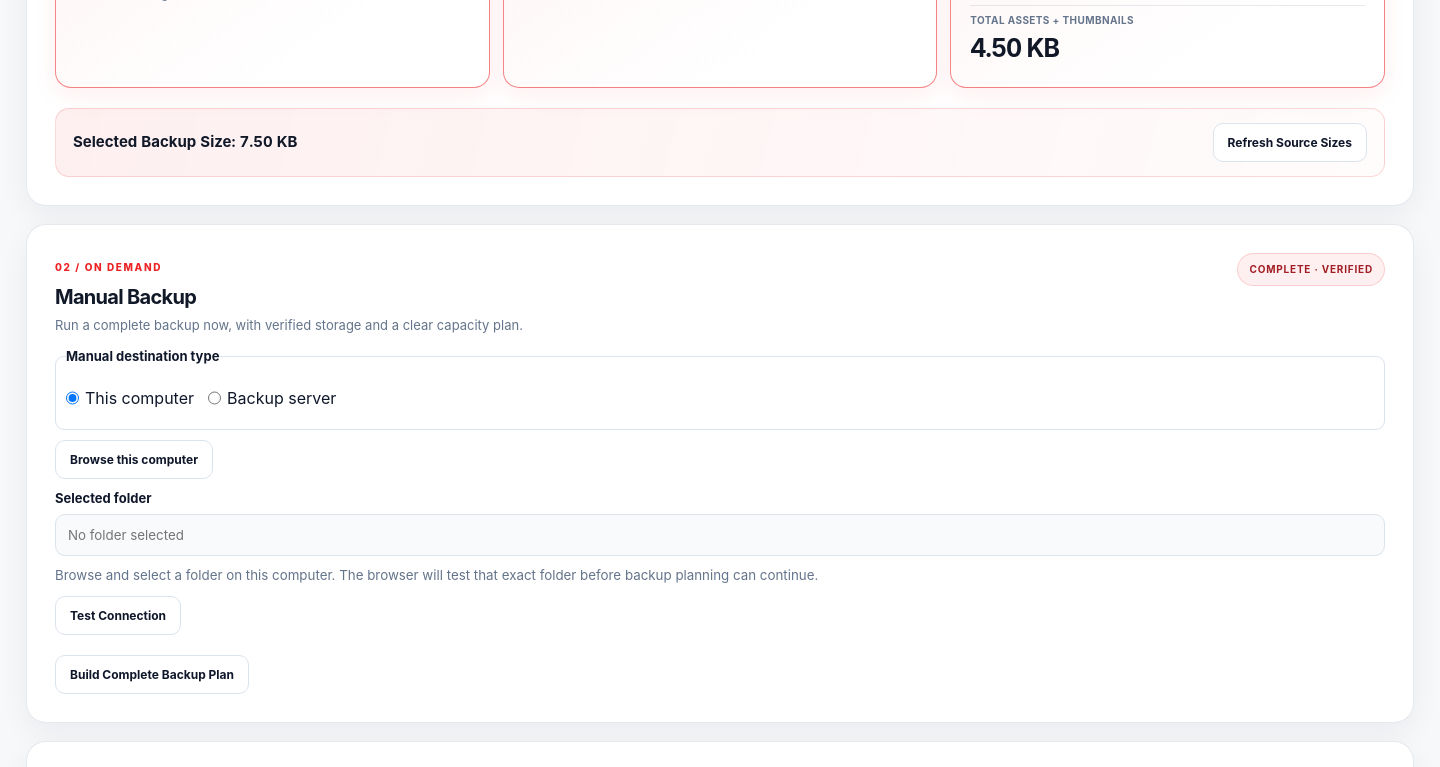
Test: AdminBackupPage › server manual destination is tested, and changing it invalidates its test and plan
The image size is (1440, 767).
(page scrolled)
Click the radio button labelled "Backup server" at (214, 398), box [208,377,221,419]
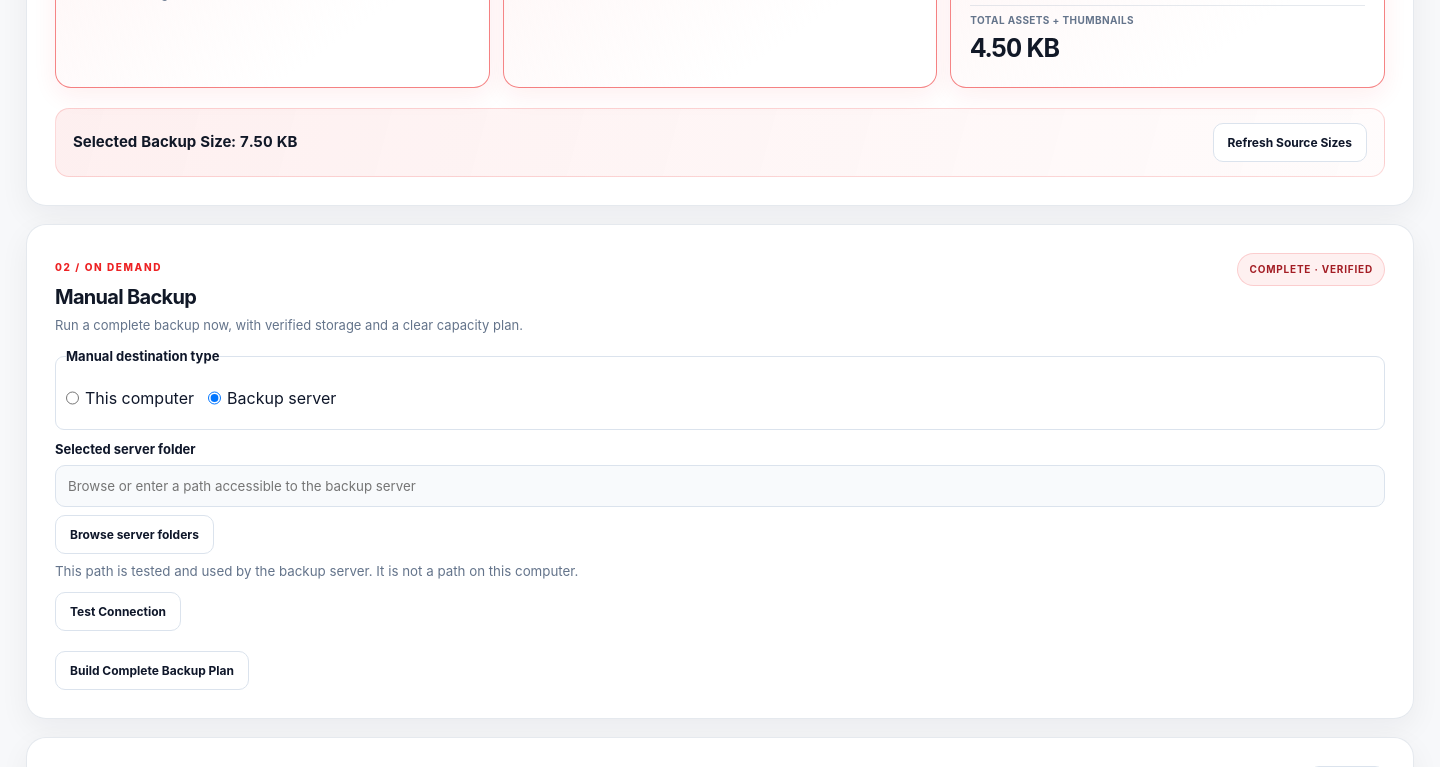
Type "D:\\FirstBackup" into the field labelled "Selected server folder" at (720, 486), box [55,465,1385,507]
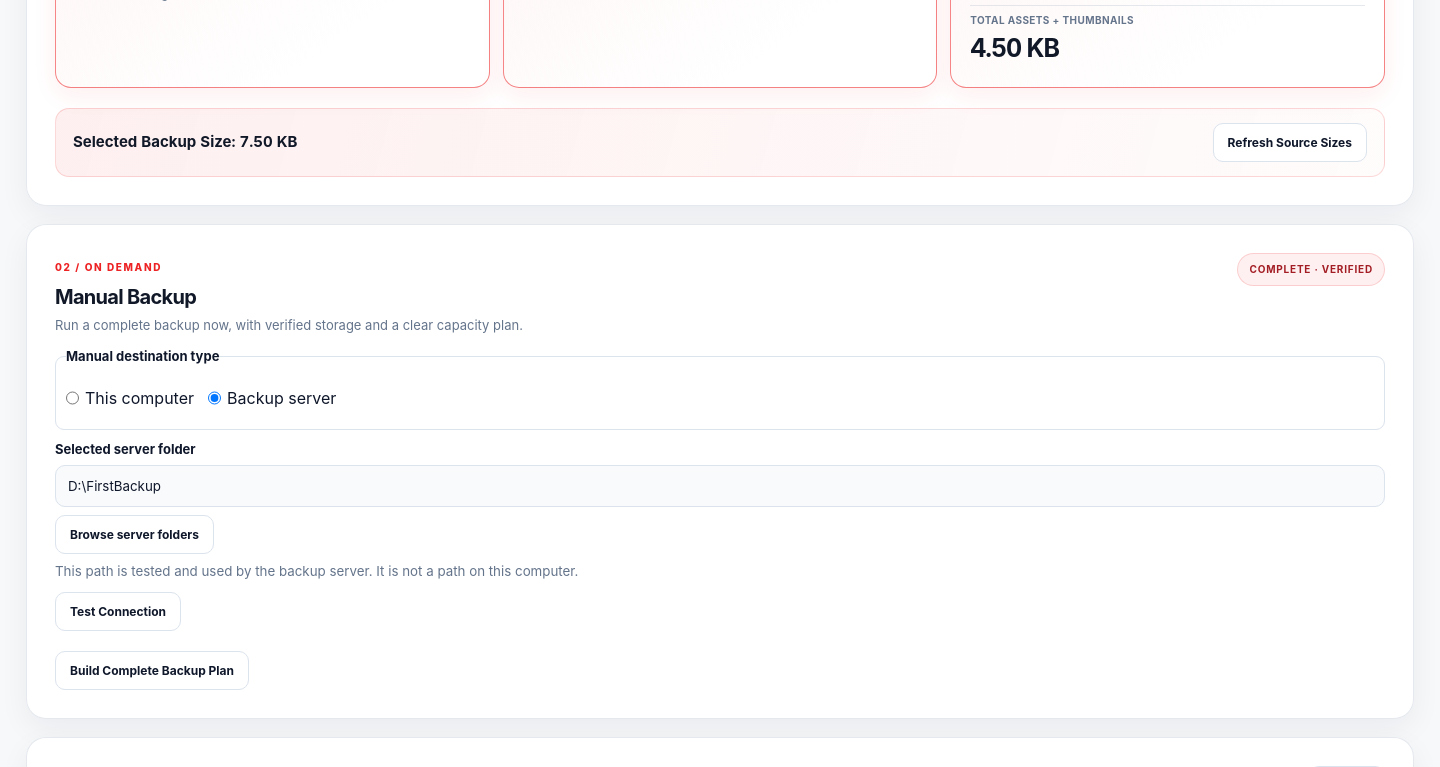
Expected: the button "Build Complete Backup Plan" is disabled, [55,651,249,690]
Click the button "Test Connection" at (118, 612), box [55,592,181,631]
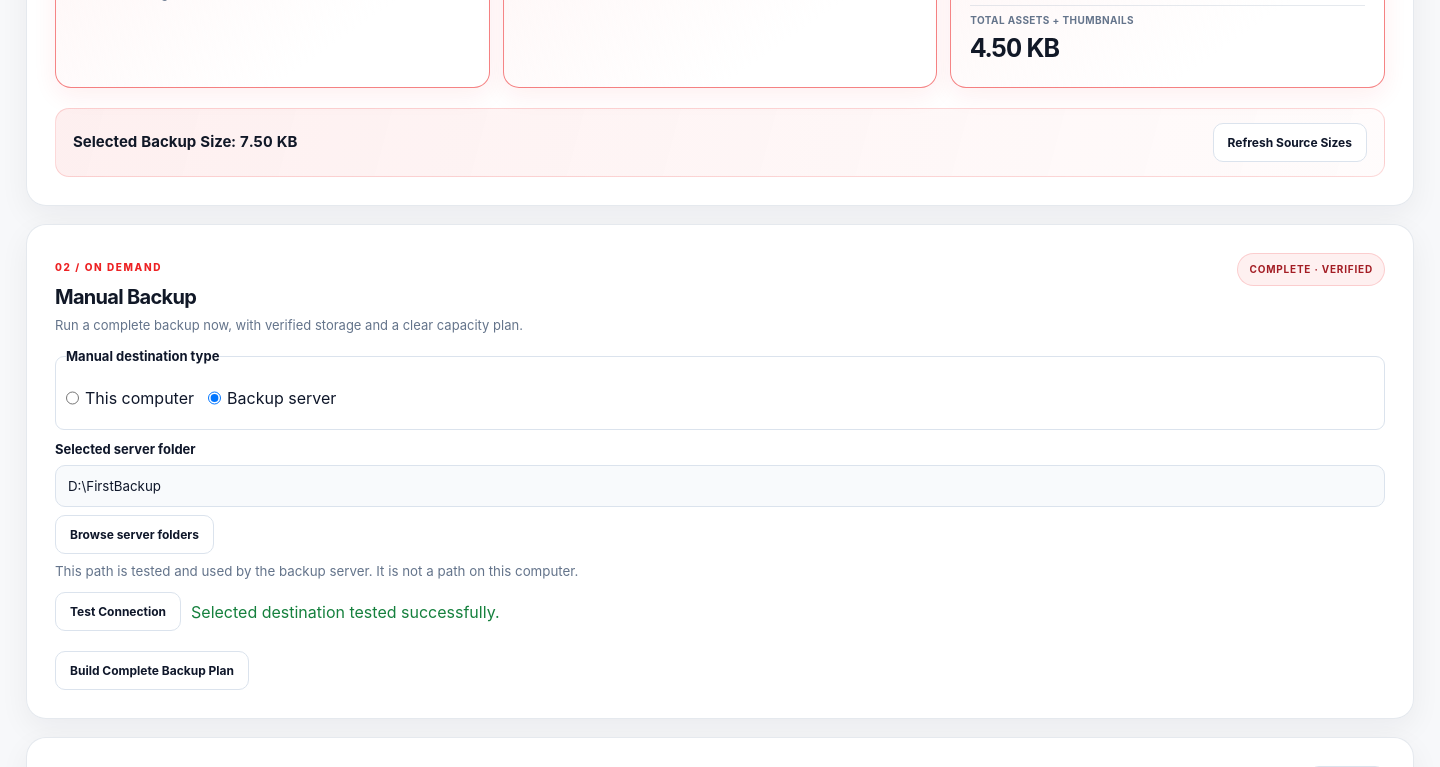
Expected: the button "Build Complete Backup Plan" is enabled, [55,651,249,690]
Now the text "Selected destination tested successfully." is shown, box [191,600,500,624]
Replace the text in the field labelled "Selected server folder" with "D:\\SecondBackup" at (720, 486), box [55,465,1385,507]
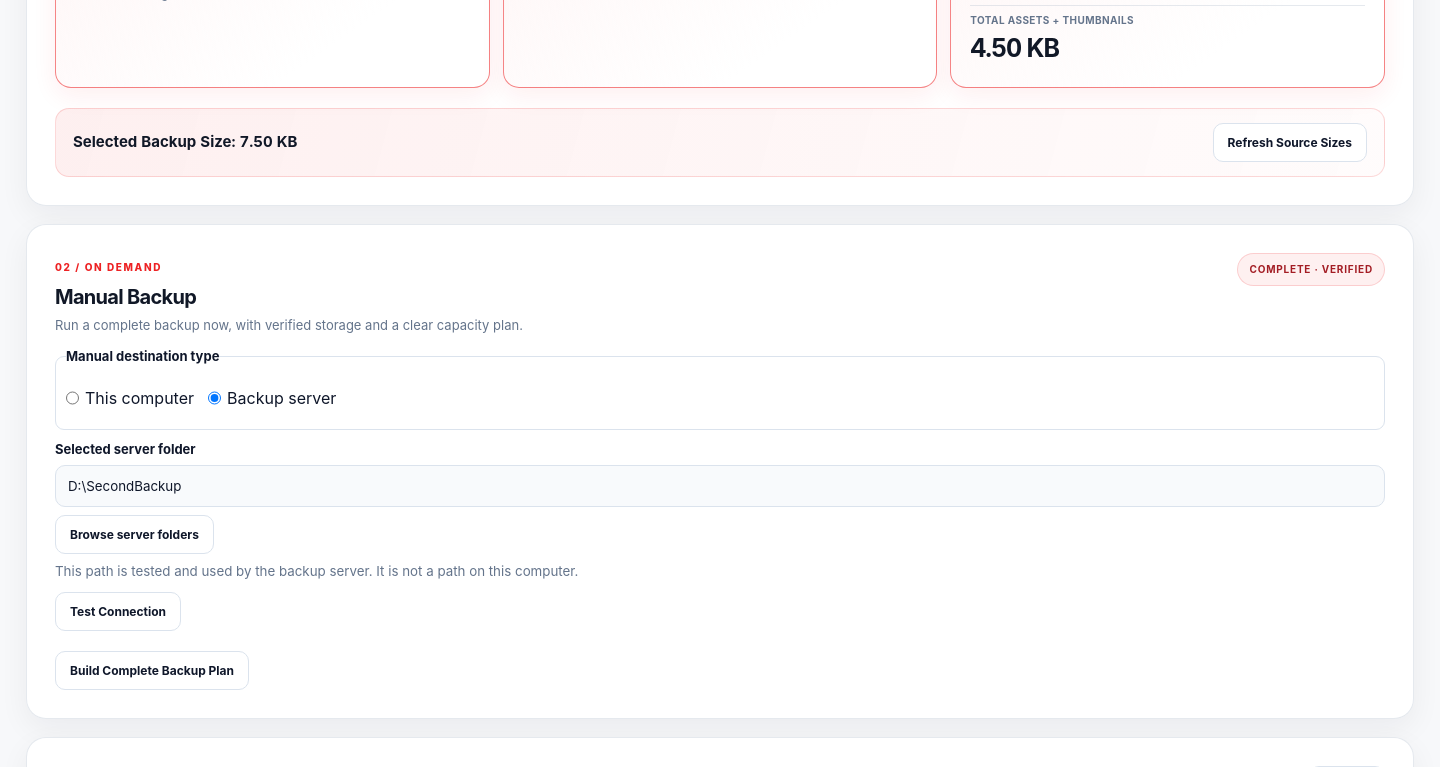
Expected: the button "Build Complete Backup Plan" is disabled, [55,651,249,690]
Now the text "Selected destination tested successfully." is gone
